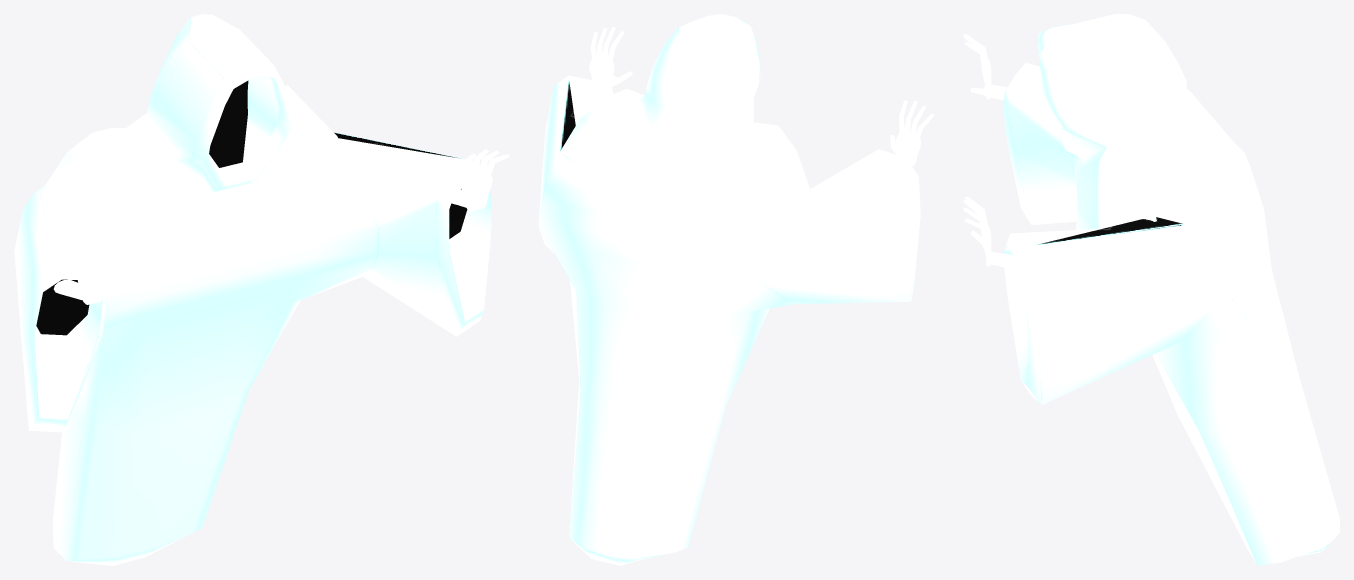
Rendered from low_poly_ghost_character.glb.
The picture shows the model from 3 angles, left to right: view 1: azimuth 30°, elevation 25°; view 2: azimuth 150°, elevation 25°; view 3: azimuth 270°, elevation 25°; orthographic projection. The views are drawn at different scales.
Parts seen in each view (by area): view 1: polySurface26; view 2: polySurface26; view 3: polySurface26.
Boxes of the visible parts, <box> form: polySurface26: <box>14,14,509,565</box>; polySurface26: <box>538,14,934,565</box>; polySurface26: <box>963,14,1339,565</box>.
Bounding box in the file's own units: 105 × 129 × 82.11.
Materials: 1 (1 with a texture image).
